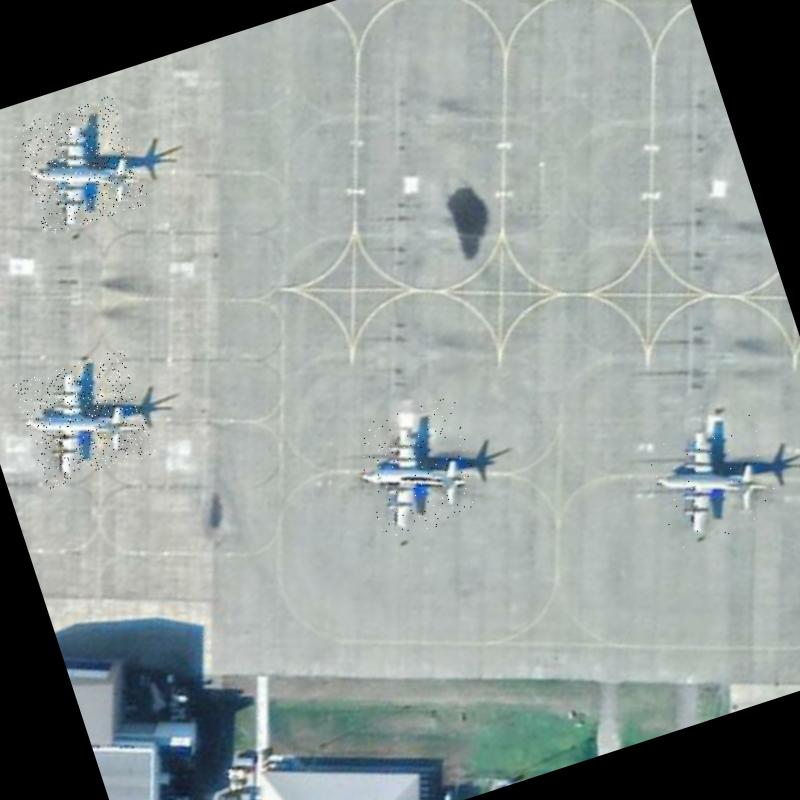A9: (349, 396, 490, 544), (12, 349, 157, 490), (642, 408, 784, 551), (11, 94, 150, 238)
